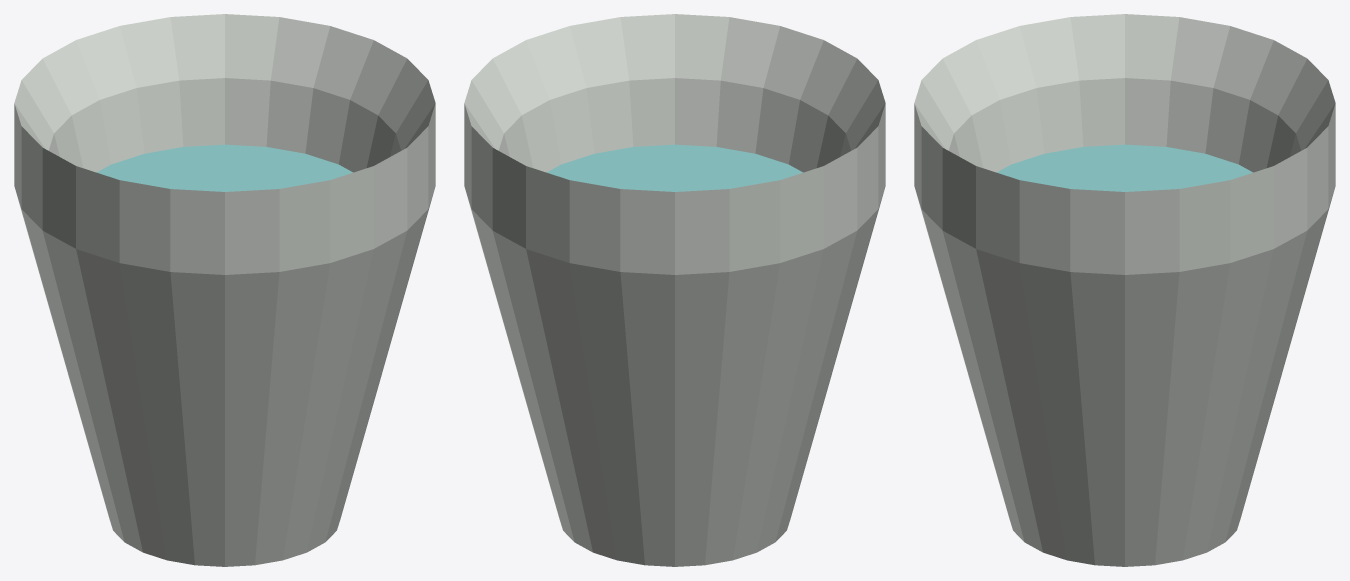
Rendered from Test_CheonRef_WaterCup.fbx.
3 views of the same model, side by side, from view 1: azimuth 30°, elevation 25°; view 2: azimuth 150°, elevation 25°; view 3: azimuth 270°, elevation 25° (orthographic).
Parts seen in each view (by area): view 1: CeramicWaterCup.001, CupWaterSurface.001; view 2: CeramicWaterCup.001, CupWaterSurface.001; view 3: CeramicWaterCup.001, CupWaterSurface.001.
Boxes of the visible parts, left/top/right/bottom form: CeramicWaterCup.001: left=14, top=14, right=435, bottom=566; CupWaterSurface.001: left=97, top=144, right=352, bottom=191; CeramicWaterCup.001: left=464, top=14, right=885, bottom=566; CupWaterSurface.001: left=547, top=144, right=802, bottom=191; CeramicWaterCup.001: left=914, top=14, right=1335, bottom=566; CupWaterSurface.001: left=997, top=144, right=1252, bottom=191.
Bounding box in the file's own units: 23 × 25 × 23.
